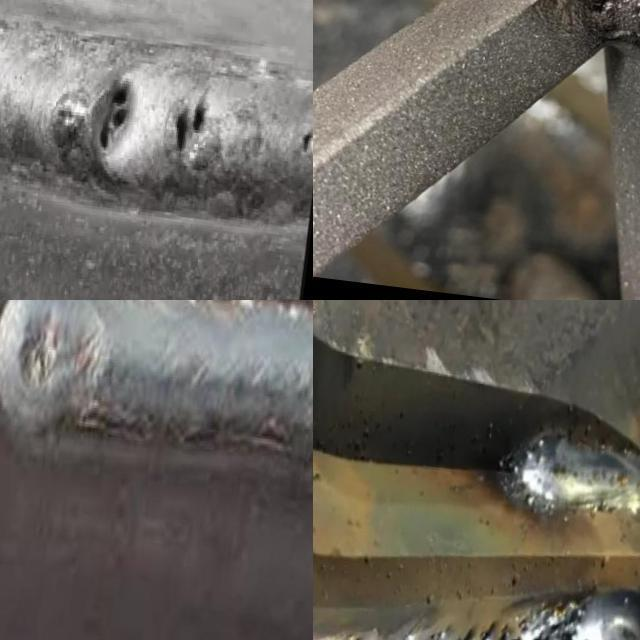defect: (92, 72, 137, 159), (170, 86, 216, 163), (296, 126, 313, 158)
